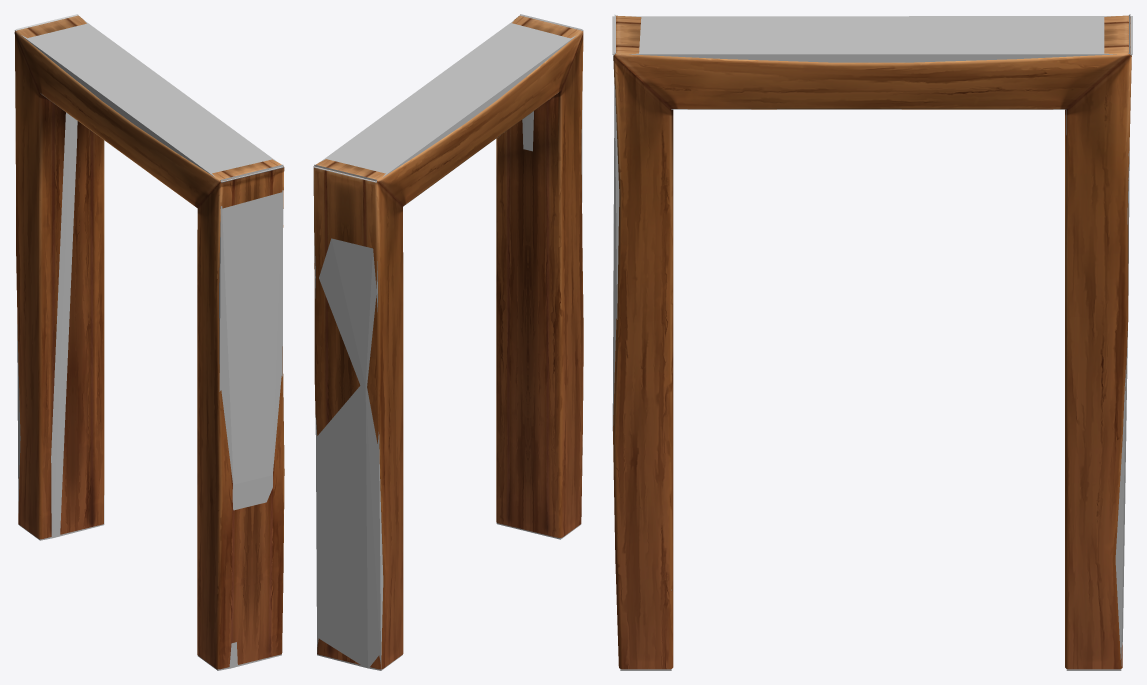
Rendered from SM_PropDoor01TypeAFrame.fbx.
3 views of the same model, side by side, from view 1: azimuth 30°, elevation 25°; view 2: azimuth 150°, elevation 25°; view 3: azimuth 270°, elevation 25° (orthographic). The views are drawn at different scales.
Visible parts, largest first — view 1: SM_PropDoor01TypeAFrame, SM_PropDoor01TypeAFrame_ConvexHulls; view 2: SM_PropDoor01TypeAFrame, SM_PropDoor01TypeAFrame_ConvexHulls; view 3: SM_PropDoor01TypeAFrame, SM_PropDoor01TypeAFrame_ConvexHulls.
Part boxes in pixels (x1,y1,x2,y2): SM_PropDoor01TypeAFrame: (14,15,284,669); SM_PropDoor01TypeAFrame_ConvexHulls: (14,14,283,670); SM_PropDoor01TypeAFrame: (313,15,583,669); SM_PropDoor01TypeAFrame_ConvexHulls: (313,14,583,670); SM_PropDoor01TypeAFrame: (613,15,1131,669); SM_PropDoor01TypeAFrame_ConvexHulls: (612,14,1132,670).
Bounding box in the file's own units: 34.06 × 186 × 244.
Materials: 2 (1 with a texture image).
